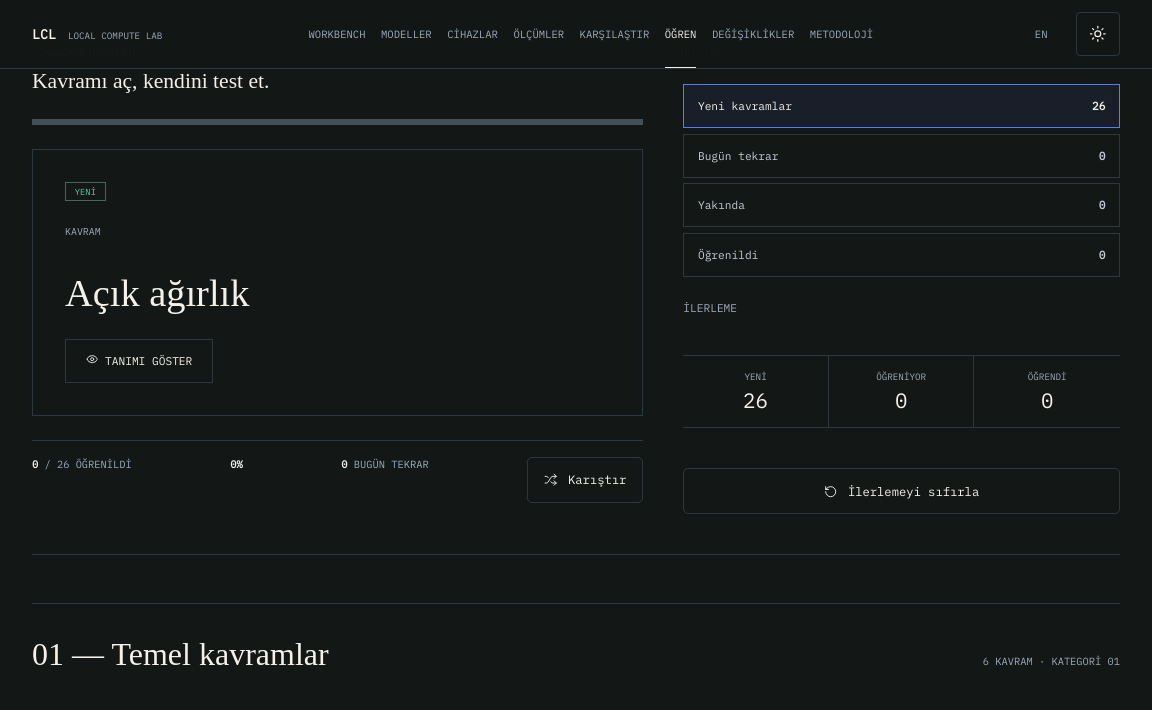
Test: LCL application routes › exposes the /learn route with a flashcard deck and concept grid
(page scrolled)
Click the button with test id "flashcard-reveal" at point(139, 361), box [65,339,213,383]
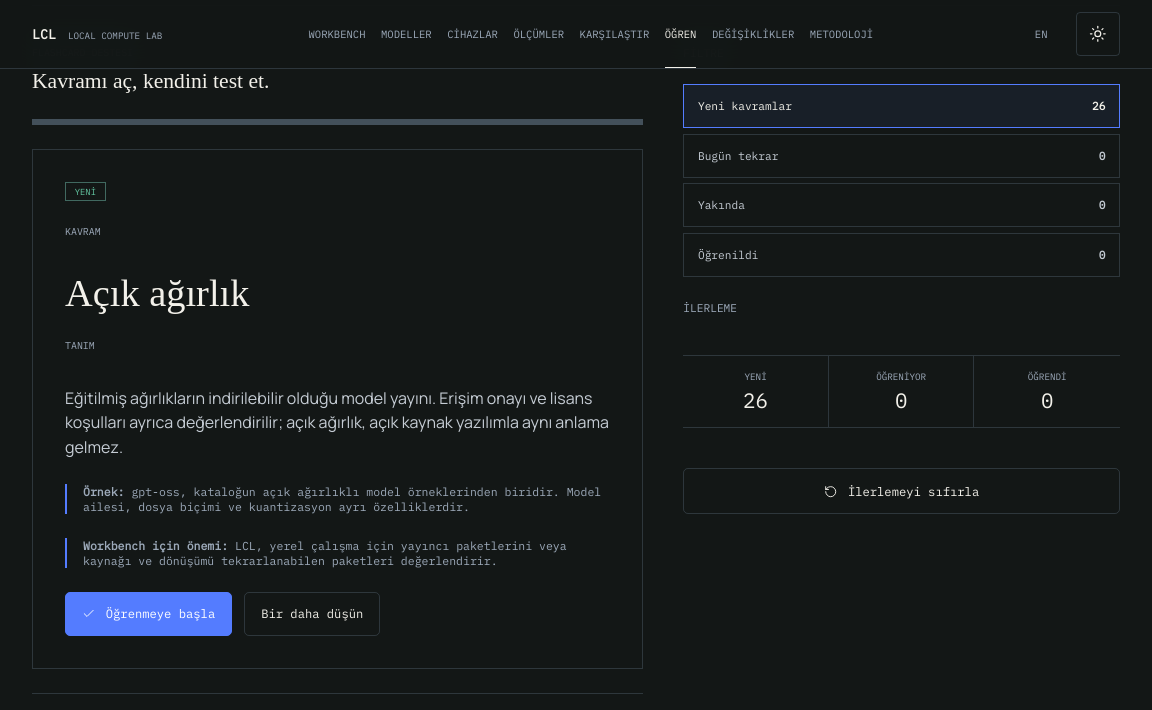
Now the button "Öğrenmeye başla" is shown, box [65,592,232,636]
